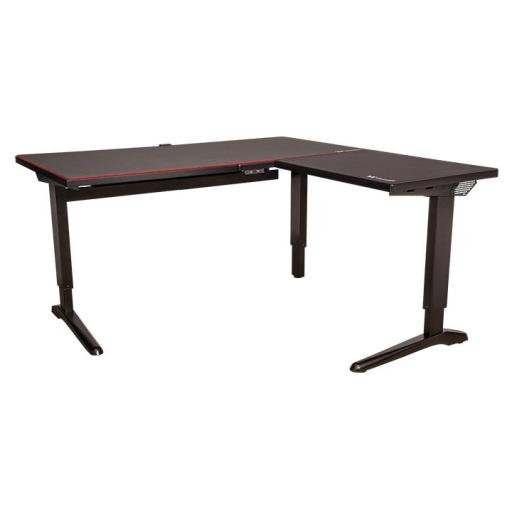table: (14, 134, 499, 361)
